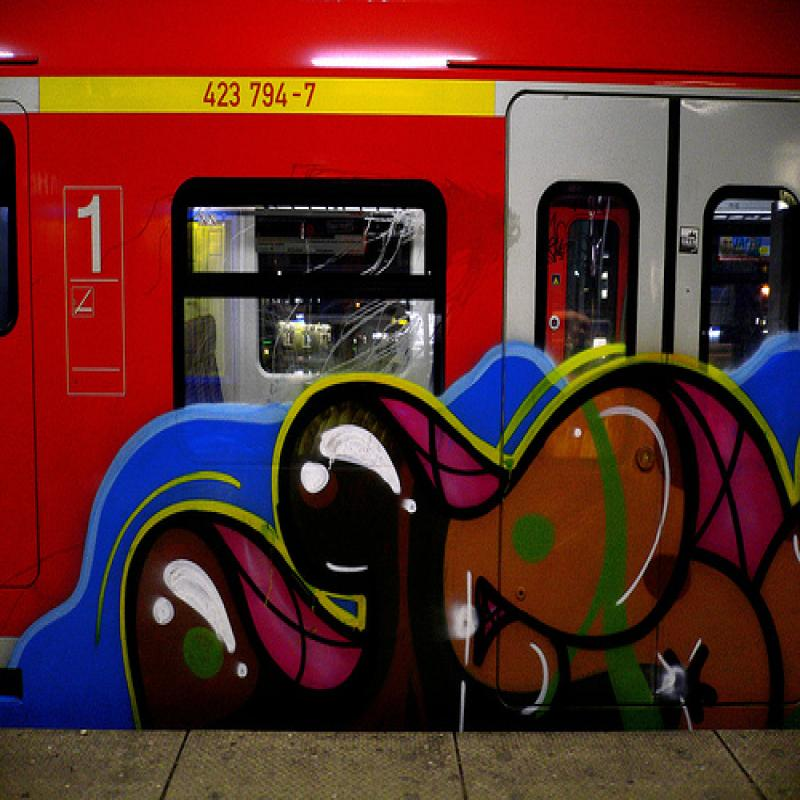train: (1, 1, 799, 730)
